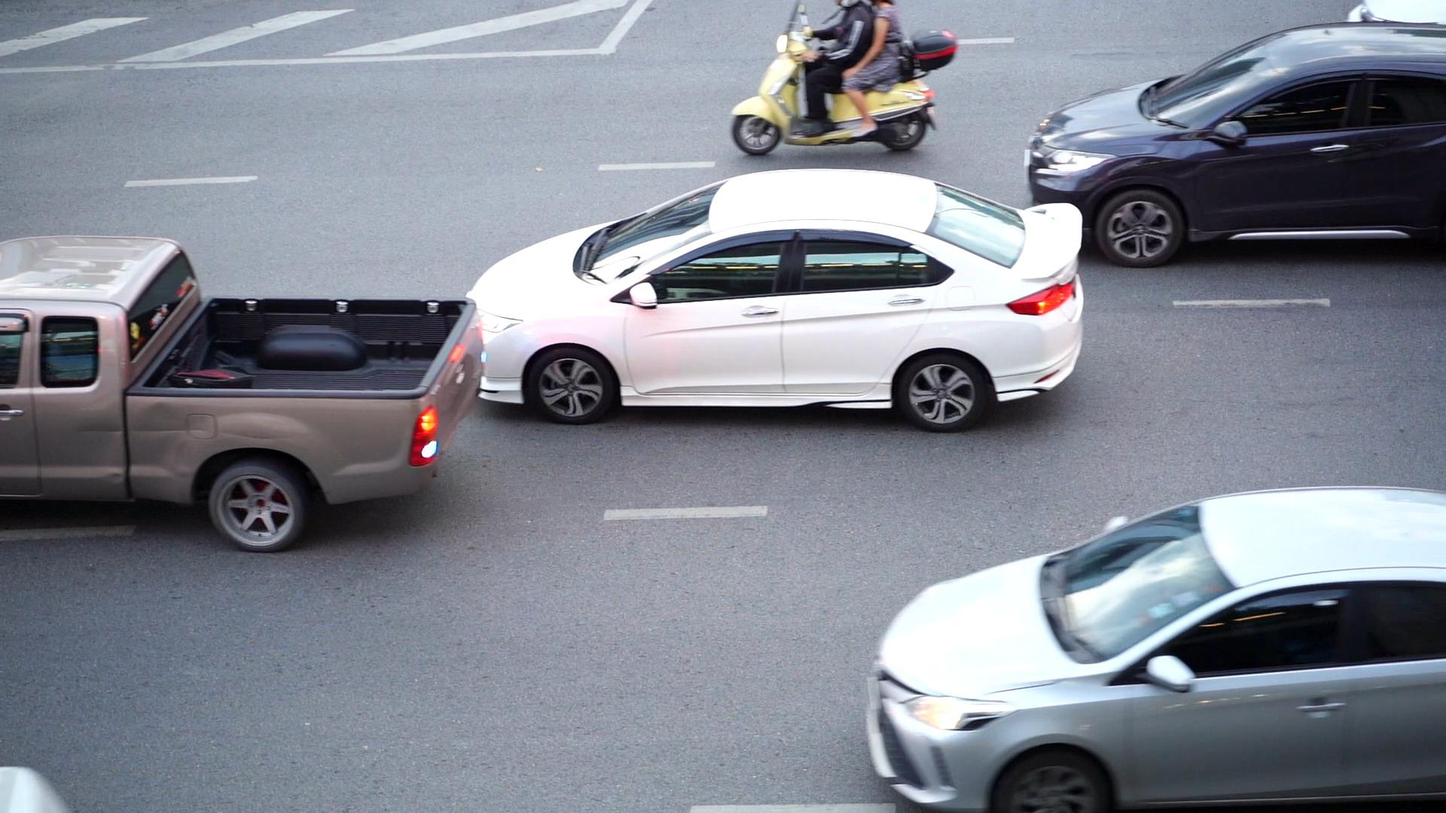driver: (731, 0, 957, 155)
